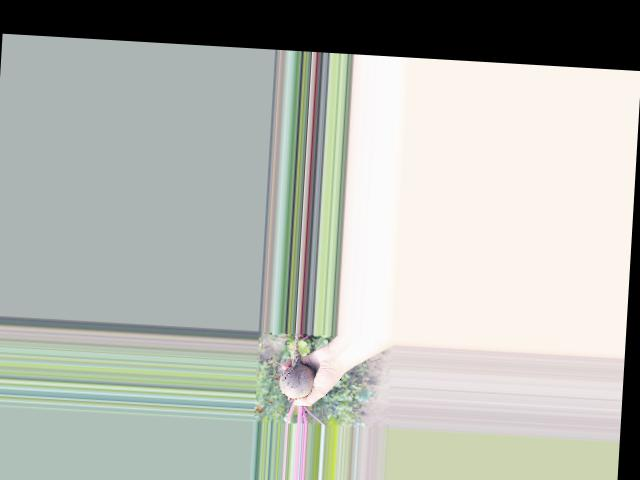beet: (263, 330, 330, 425)
